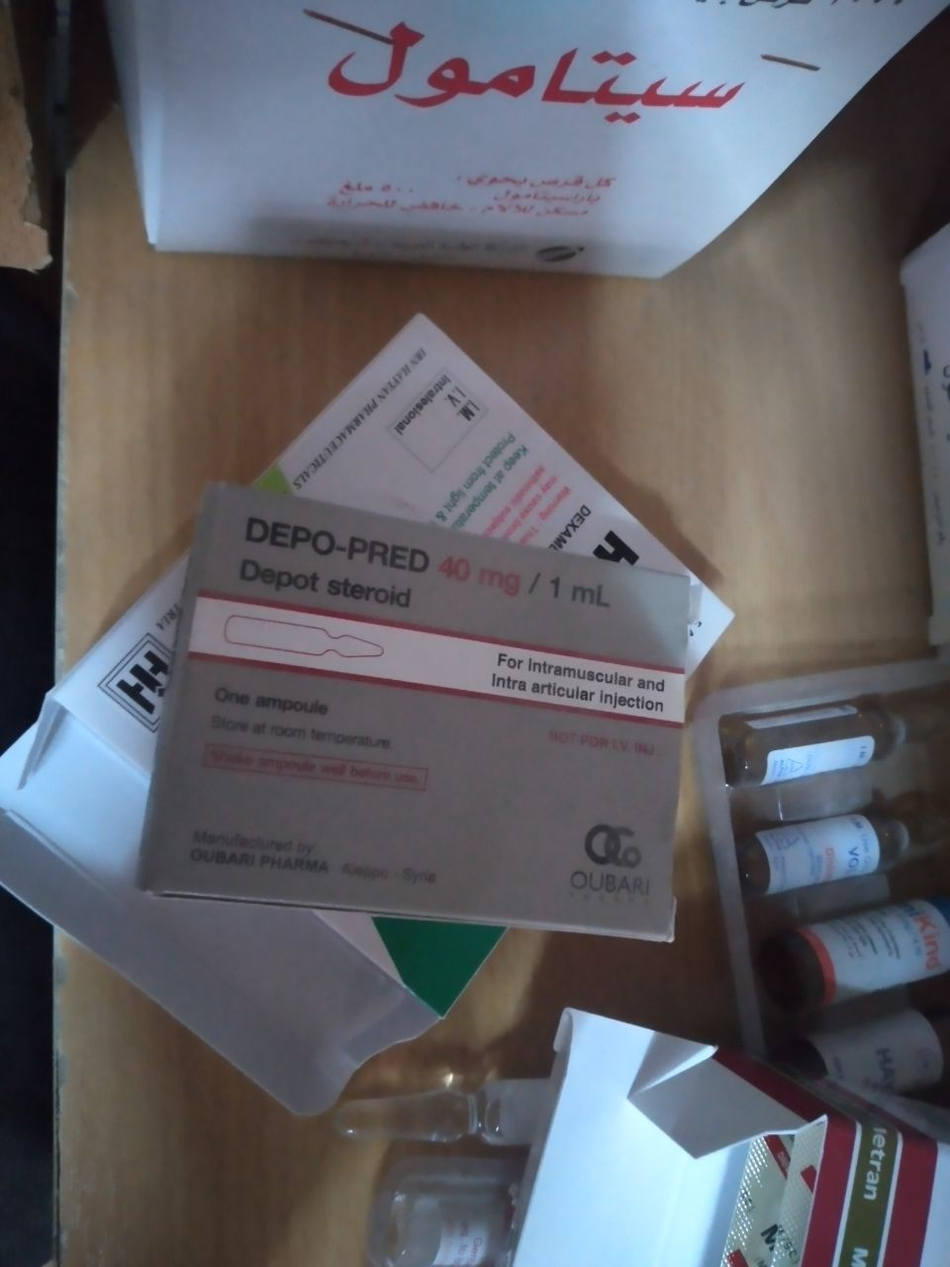Medicine: (33, 310, 703, 1072), (142, 439, 703, 987), (132, 0, 950, 300), (742, 775, 950, 917), (729, 676, 950, 798), (762, 891, 950, 1013), (788, 1039, 950, 1099)
